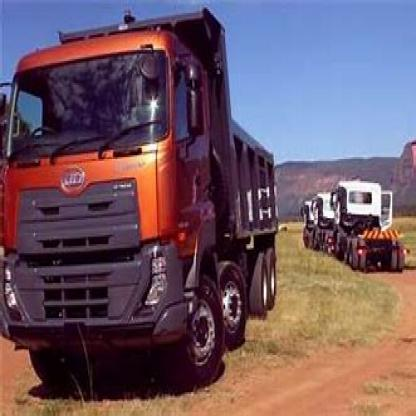dump_truck: (6, 15, 286, 390)
